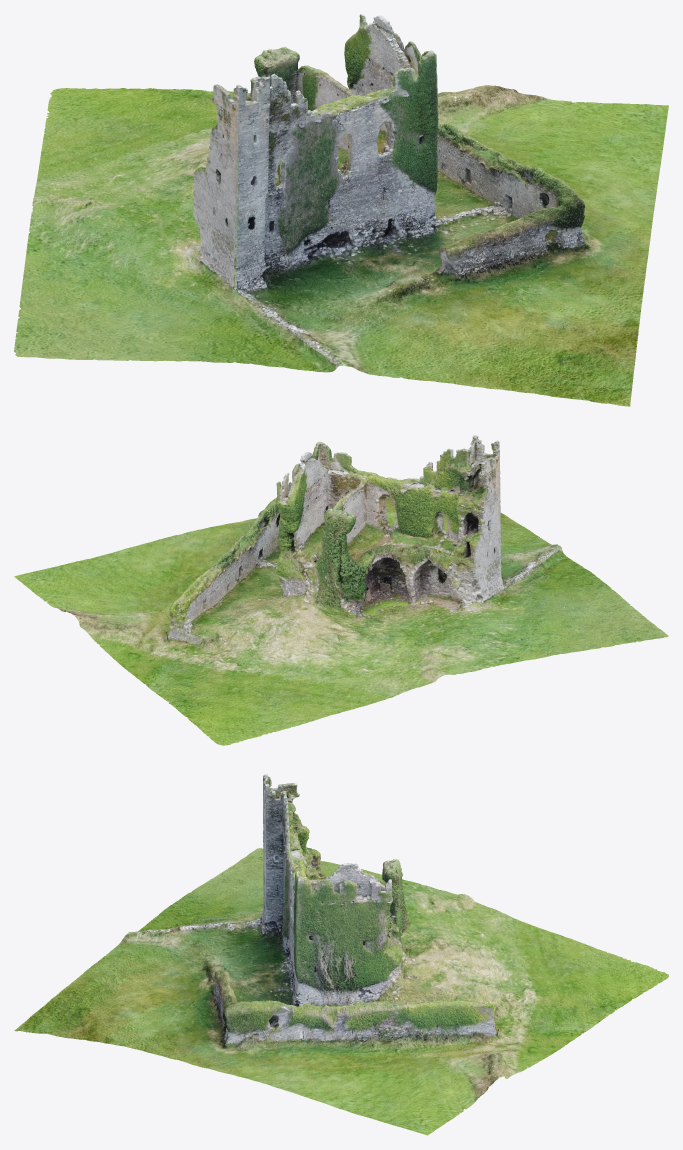
Rendered from sf-ballycarbery-castle-ruin-26ea56.glb.
3 renders of one model, top to bottom at view 1: azimuth 30°, elevation 25°; view 2: azimuth 150°, elevation 25°; view 3: azimuth 270°, elevation 25°, orthographic. The views are drawn at different scales.
Parts seen in each view (by area): view 1: Model_material1_0, Model_material0_0; view 2: Model_material0_0, Model_material1_0; view 3: Model_material1_0, Model_material0_0.
Part boxes in pixels (left/top/right/bottom): Model_material1_0: left=14, top=15, right=668, bottom=406; Model_material0_0: left=17, top=14, right=651, bottom=381; Model_material0_0: left=146, top=435, right=626, bottom=745; Model_material1_0: left=14, top=441, right=668, bottom=684; Model_material1_0: left=14, top=776, right=583, bottom=1135; Model_material0_0: left=92, top=774, right=668, bottom=1075.
Size of the model in its own units: 20.1 by 6.19 by 20.46.
2 materials, 2 textured.
